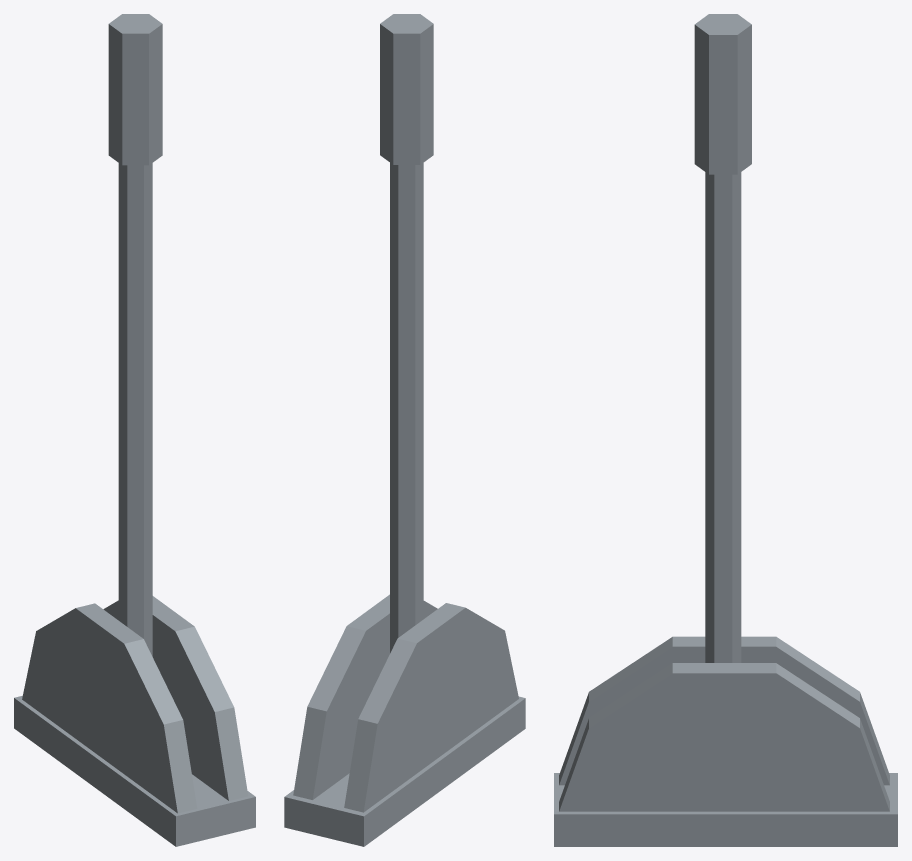
Rendered from Lever.FBX.
3 renders of one model, left to right at view 1: azimuth 30°, elevation 25°; view 2: azimuth 150°, elevation 25°; view 3: azimuth 270°, elevation 25°, orthographic. The views are drawn at different scales.
Parts seen in each view (by area): view 1: Cylinder001, Cylinder002, Box001; view 2: Cylinder001, Cylinder002, Box001; view 3: Cylinder001, Cylinder002, Box001.
Boxes of the visible parts, left/top/right/bottom form: Cylinder001: left=22, top=596, right=248, bottom=813; Cylinder002: left=108, top=14, right=162, bottom=656; Box001: left=14, top=695, right=255, bottom=846; Cylinder001: left=293, top=594, right=518, bottom=812; Cylinder002: left=380, top=14, right=433, bottom=653; Box001: left=284, top=696, right=525, bottom=846; Cylinder001: left=559, top=636, right=889, bottom=811; Cylinder002: left=694, top=14, right=751, bottom=662; Box001: left=554, top=773, right=897, bottom=846.
Bounding box in the file's own units: 8.19 × 28.74 × 73.94.
